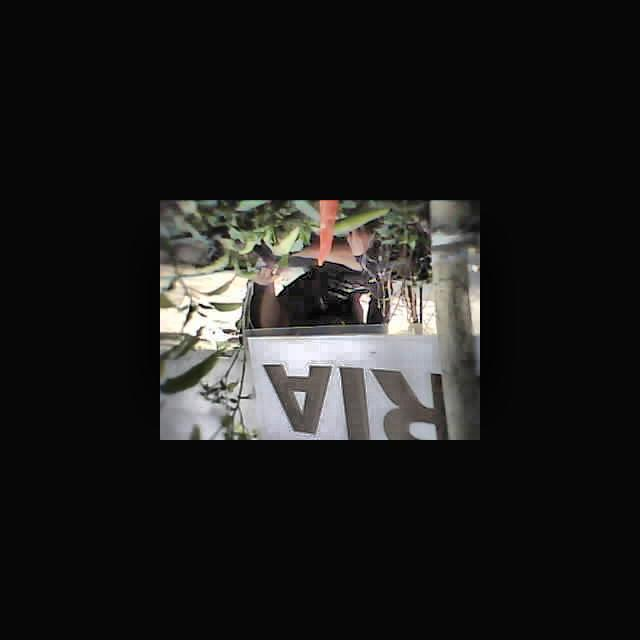Cabai: (311, 202, 336, 267)
